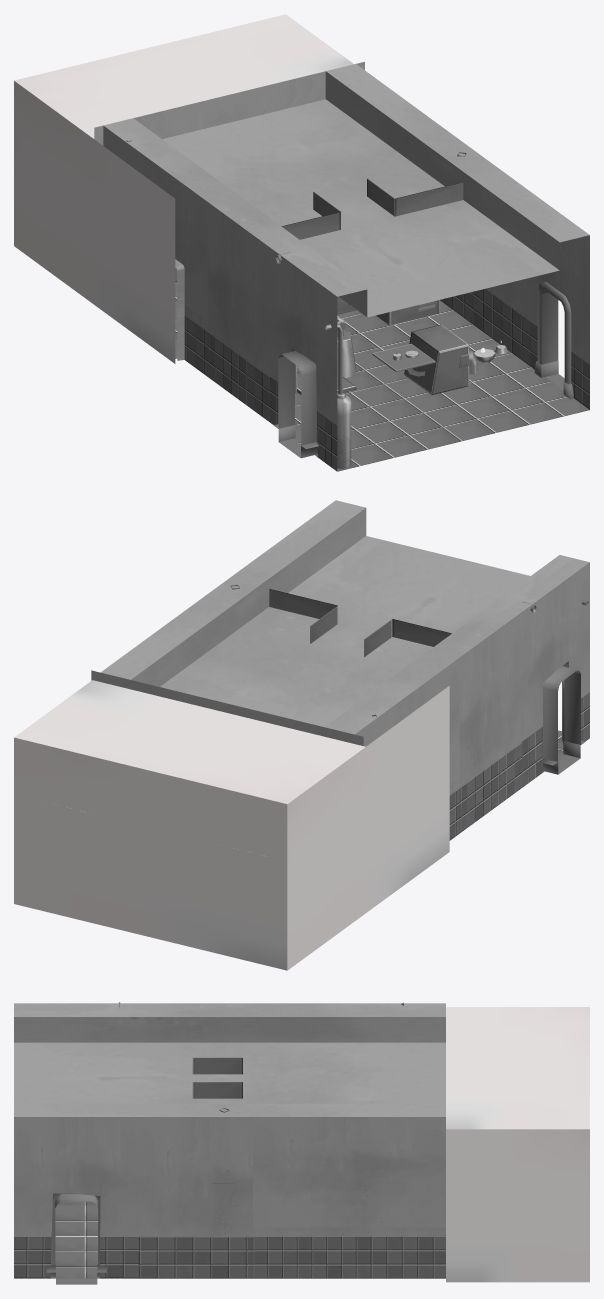
Rendered from MSH_Science_Lab_room_L2_R1_optimized.fbx.
The picture shows the model from 3 angles, top to bottom: view 1: azimuth 30°, elevation 25°; view 2: azimuth 150°, elevation 25°; view 3: azimuth 270°, elevation 25°; orthographic projection. The views are drawn at different scales.
Parts seen in each view (by area): view 1: lightmap1, lightmap-1; view 2: lightmap1, lightmap-1; view 3: lightmap1, lightmap-1.
Boxes of the visible parts, x1=… form: lightmap1: x1=14, y1=14, x2=589, y2=471; lightmap-1: x1=278, y1=290, x2=564, y2=458; lightmap1: x1=14, y1=500, x2=589, y2=970; lightmap-1: x1=543, y1=666, x2=580, y2=774; lightmap1: x1=14, y1=1002, x2=589, y2=1282; lightmap-1: x1=55, y1=1194, x2=97, y2=1284.
Bounding box in the file's own units: 10.3 × 6.24 × 19.9.
Materials: 5 (5 with a texture image).
